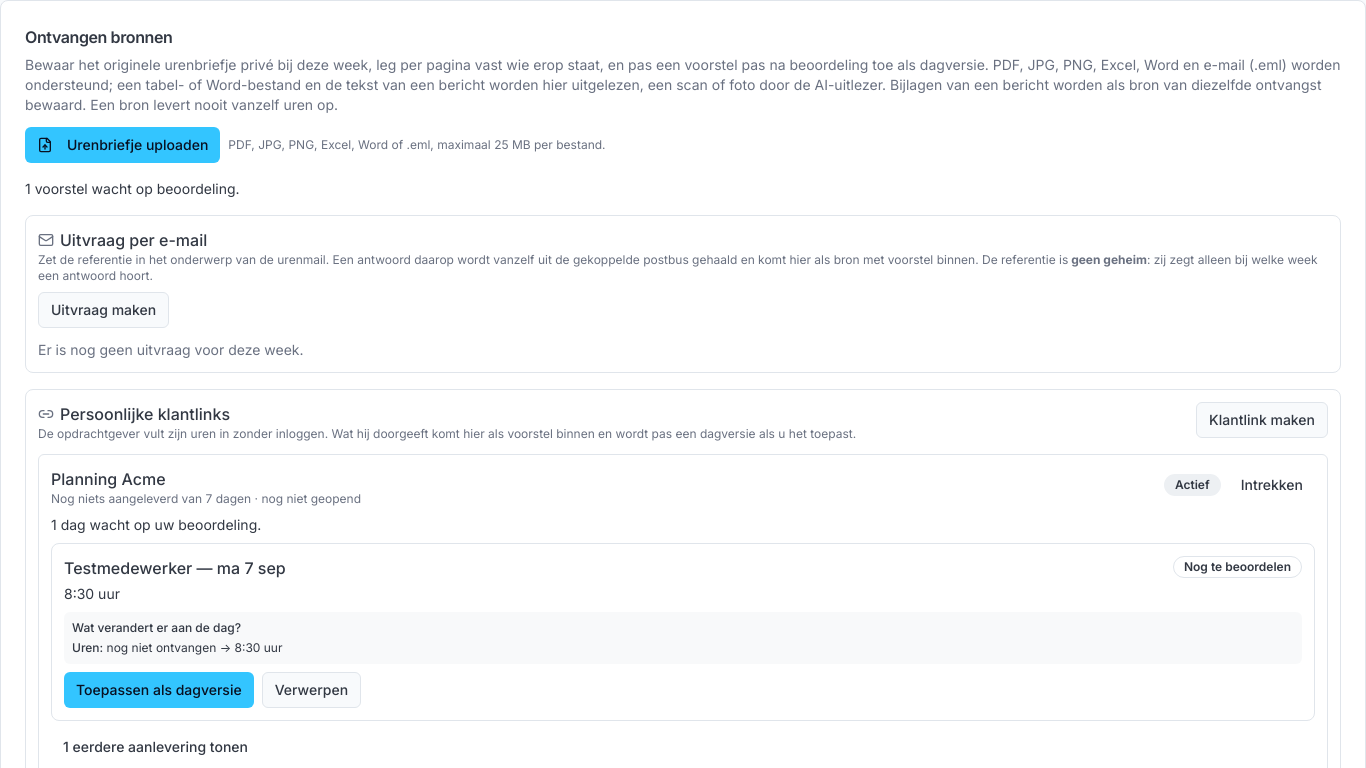
it: a delivery is a proposal, and stays one › shows a delivery the client replaced as withdrawn, not as the standing one
Check: the number of buttons "Toepassen als dagversie" is 1, box 64,672 -> 254,708
Click the button "1 eerdere aanlevering tonen" at (156, 747), box 51,729 -> 260,765
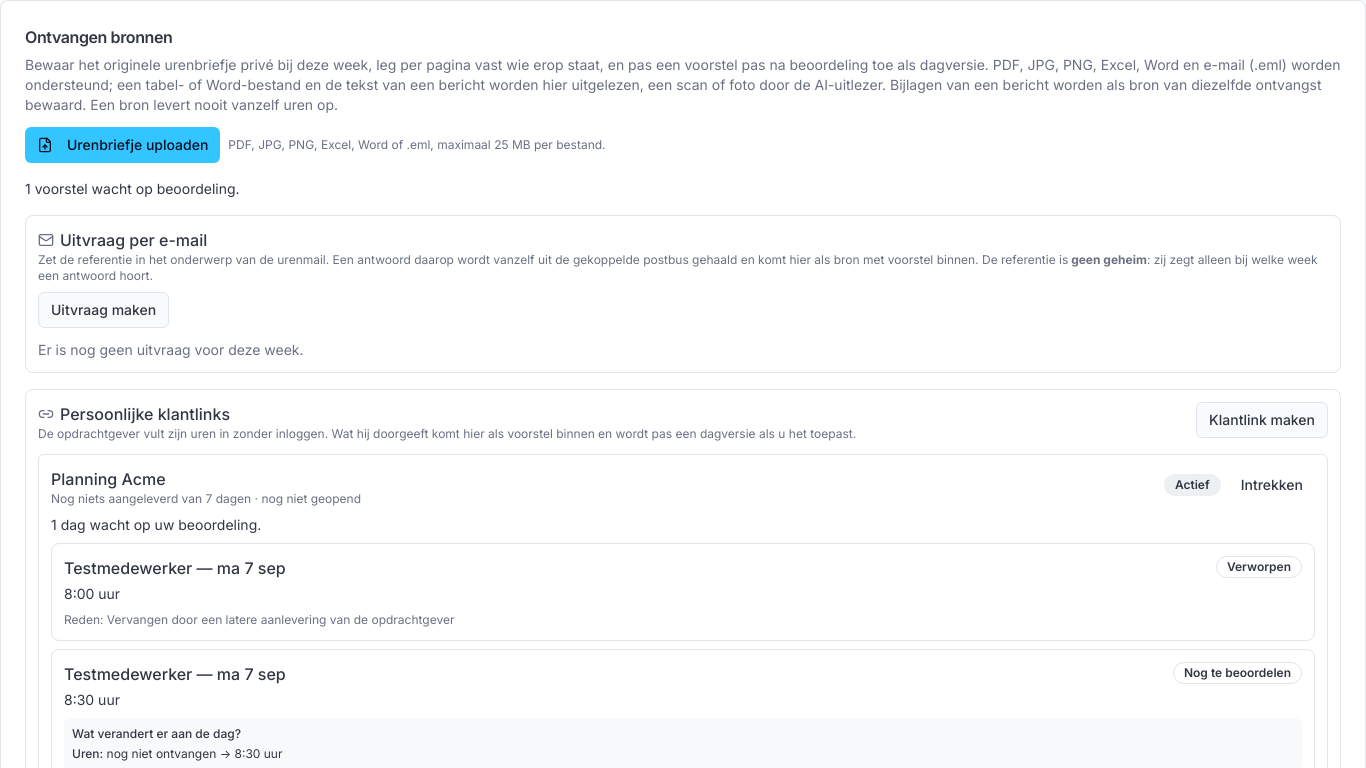
Check: the text "Vervangen door een latere aanlevering" is shown, box 107,612 -> 454,627
